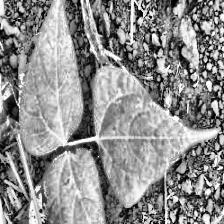ALS: (88, 67, 218, 210), (18, 0, 83, 153), (35, 150, 131, 224)
